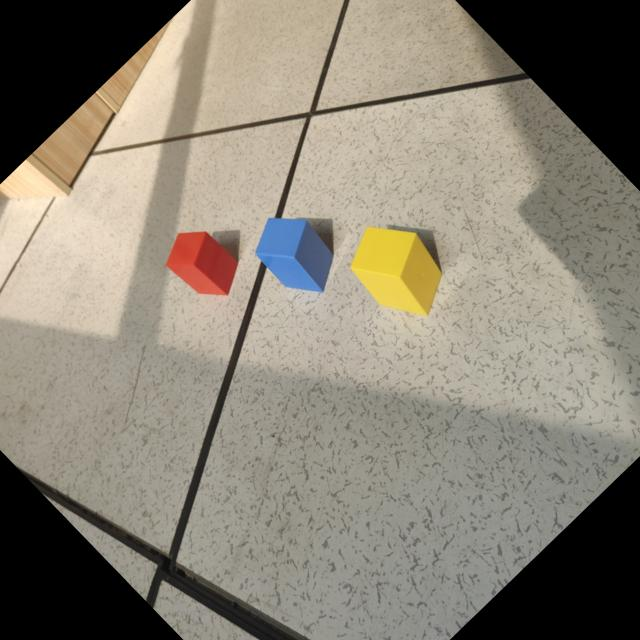blue: (250, 215, 336, 292)
red: (163, 227, 241, 299)
yellow: (348, 220, 442, 318)
